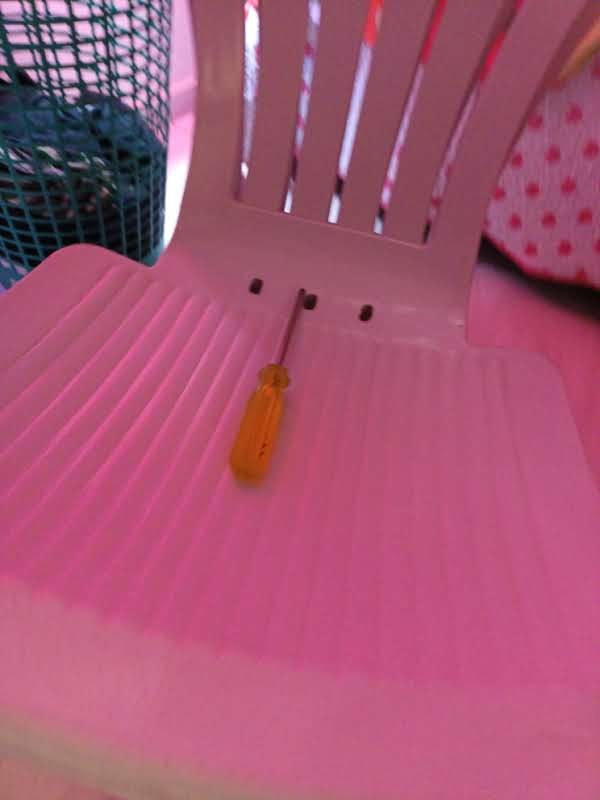Destornillador: (230, 289, 304, 482)
